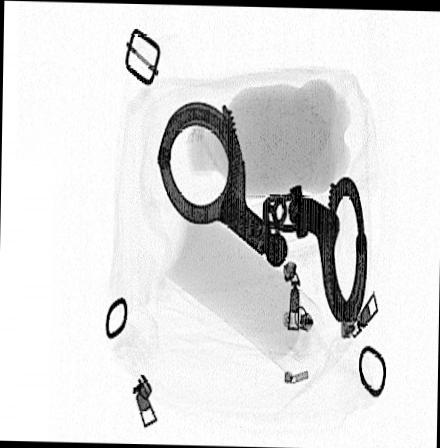HandCuffs: (152, 99, 368, 326)
